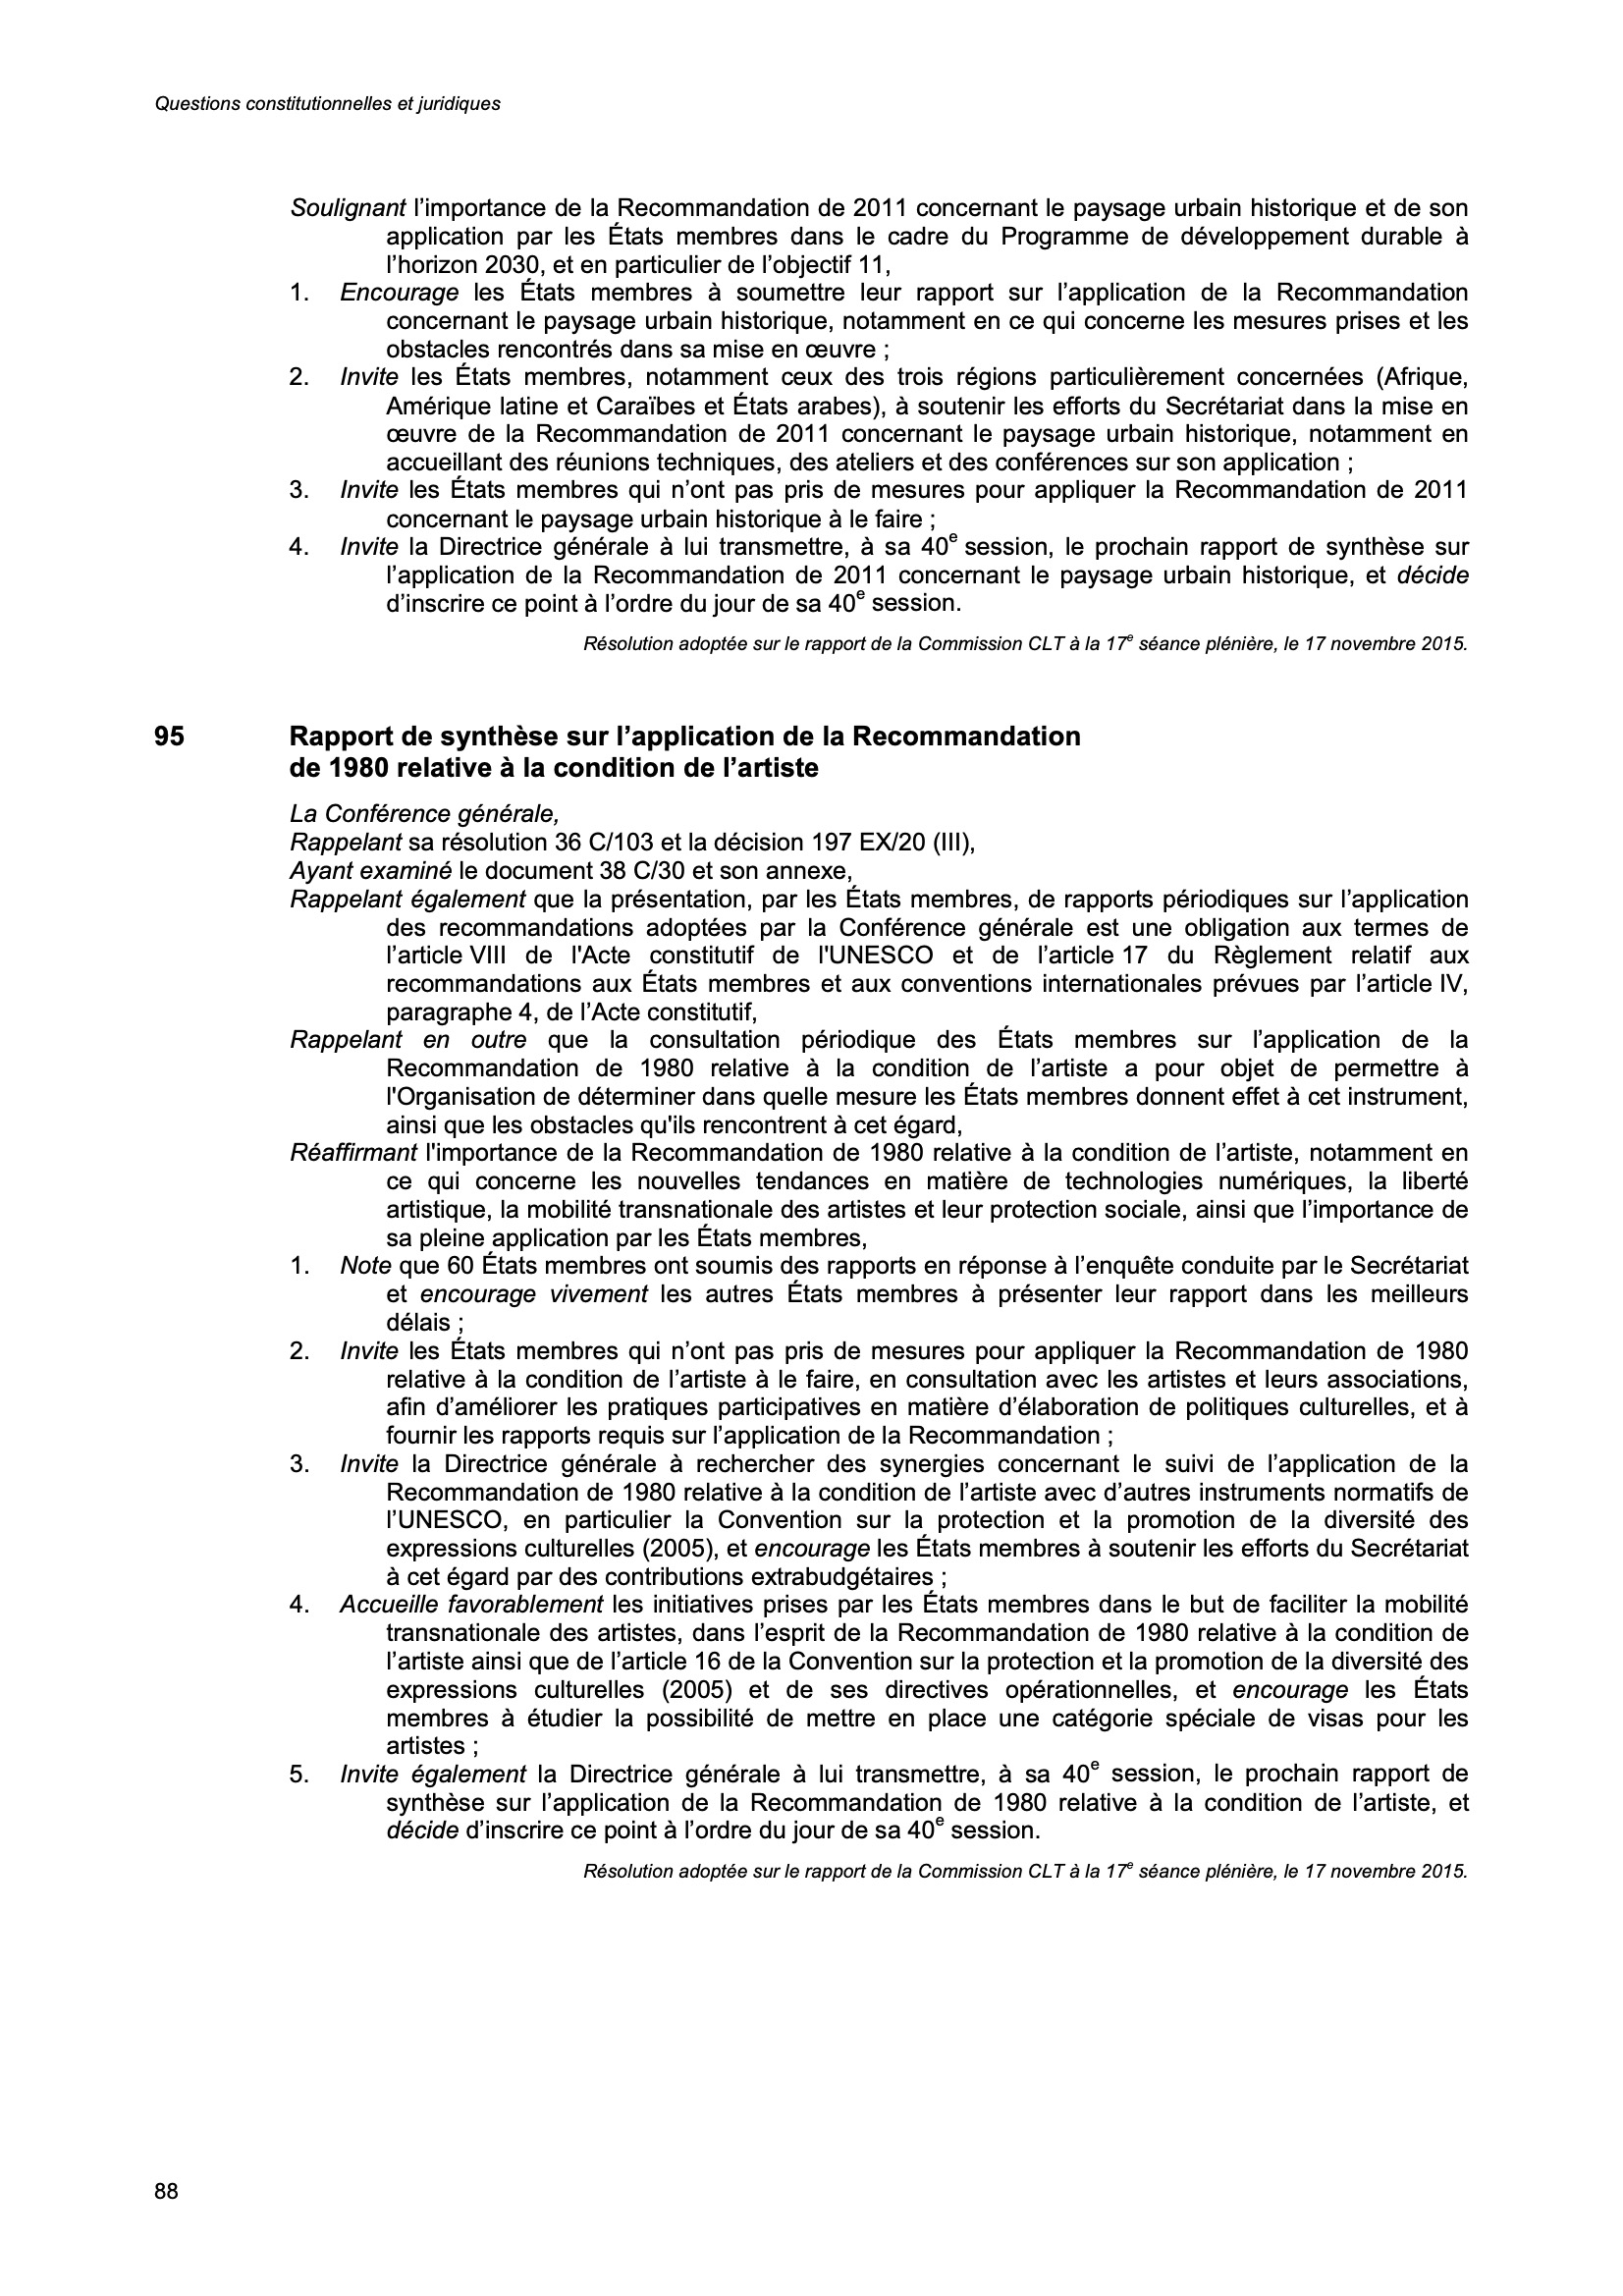MainZone-Head: (144, 713, 1090, 788)
MainZone-ListItem: (277, 1588, 1482, 1762), (276, 1444, 1481, 1590), (274, 1338, 1489, 1453), (259, 359, 1477, 474), (275, 1754, 1489, 1848), (267, 528, 1477, 623), (256, 278, 1477, 362), (273, 1253, 1481, 1338), (266, 471, 1476, 532)
MainZone-Other: (566, 624, 1479, 671), (571, 1856, 1479, 1886)
MainZone-P: (275, 884, 1477, 1025), (274, 1024, 1478, 1140), (283, 1142, 1488, 1250), (244, 185, 1479, 279), (280, 829, 988, 855), (279, 854, 852, 885), (280, 796, 563, 830)
NumberingZone: (142, 2171, 186, 2214)
RunningTitleZone: (141, 78, 509, 131)
